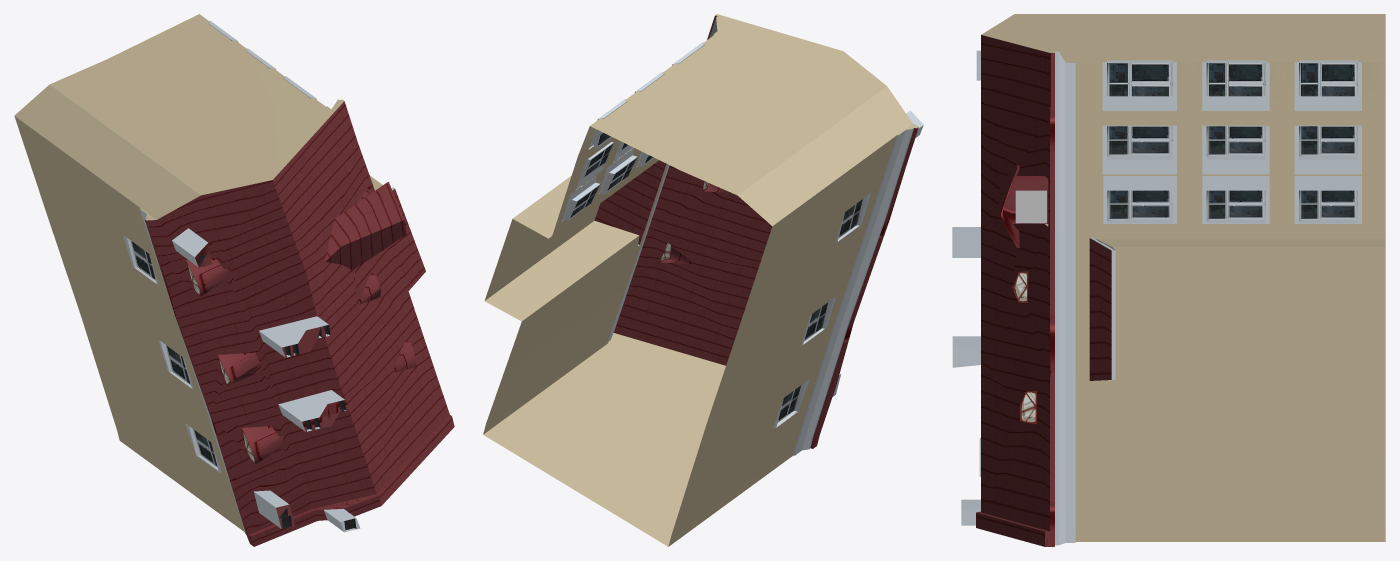
The model's file is Uus_13_1-origo.obj.
3 views of the same model, side by side, from view 1: azimuth 30°, elevation 25°; view 2: azimuth 150°, elevation 25°; view 3: azimuth 270°, elevation 25° (orthographic). The views are drawn at different scales.
Visible parts, largest first — view 1: Uus13_01; view 2: Uus13_01; view 3: Uus13_01.
Part boxes in pixels (left/top/right/bottom): Uus13_01: left=14, top=14, right=454, bottom=546; Uus13_01: left=483, top=14, right=923, bottom=546; Uus13_01: left=952, top=14, right=1385, bottom=546.
Size of the model in its own units: 14.31 by 18.5 by 14.18.
